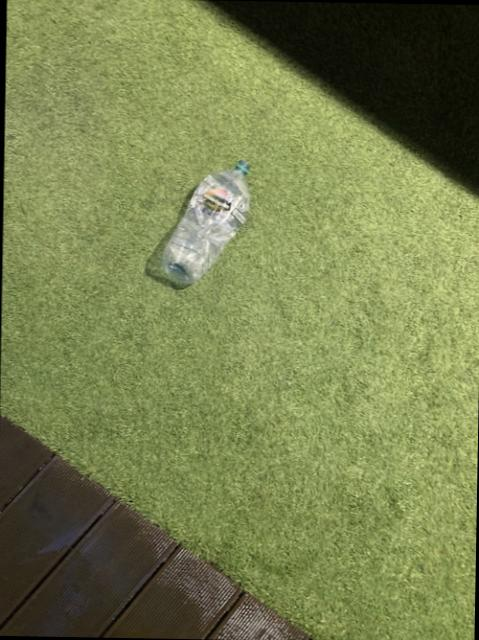plastic: (159, 158, 247, 284)
